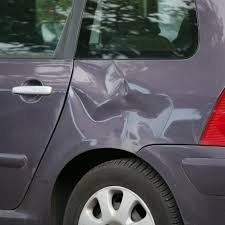Dent: (68, 56, 174, 154)
